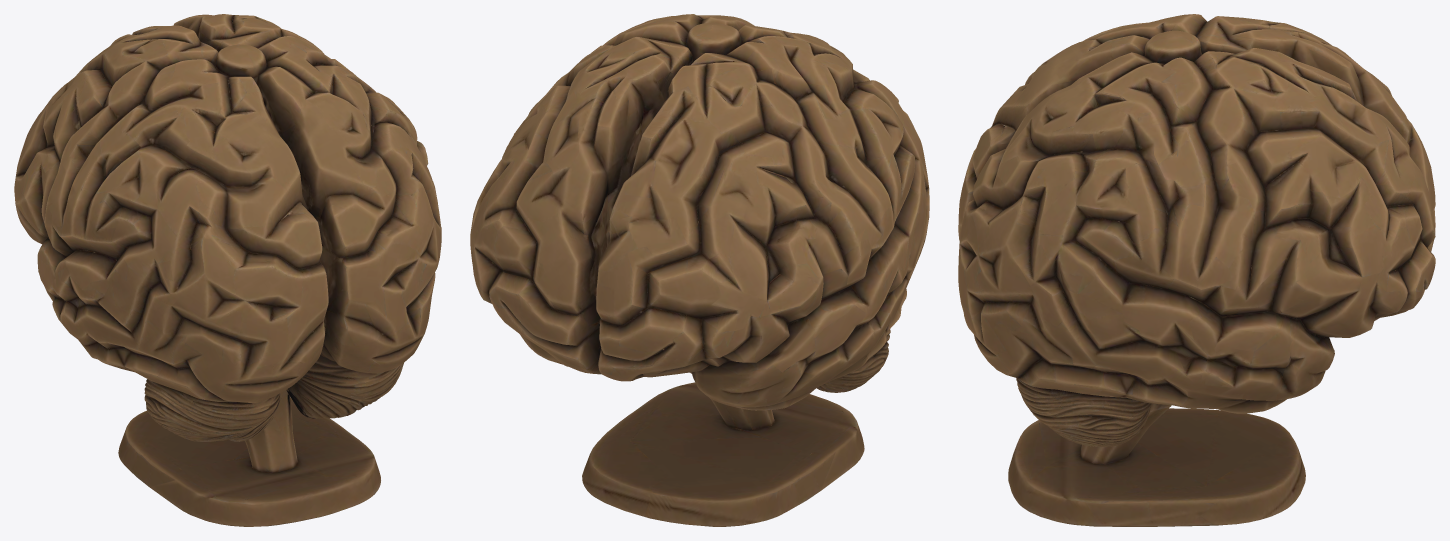
The model's file is fig-brain.glb.
The picture shows the model from 3 angles, left to right: view 1: azimuth 30°, elevation 25°; view 2: azimuth 150°, elevation 25°; view 3: azimuth 270°, elevation 25°; orthographic projection. The views are drawn at different scales.
Visible parts, largest first — view 1: Mesh_0; view 2: Mesh_0; view 3: Mesh_0.
Part boxes in pixels (box(x1,y1,x2,y2)): Mesh_0: box(14, 14, 441, 526); Mesh_0: box(470, 14, 929, 526); Mesh_0: box(958, 14, 1435, 526).
Bounding box in the file's own units: 1.65 × 1.9 × 1.86.
1 material, 1 textured.
